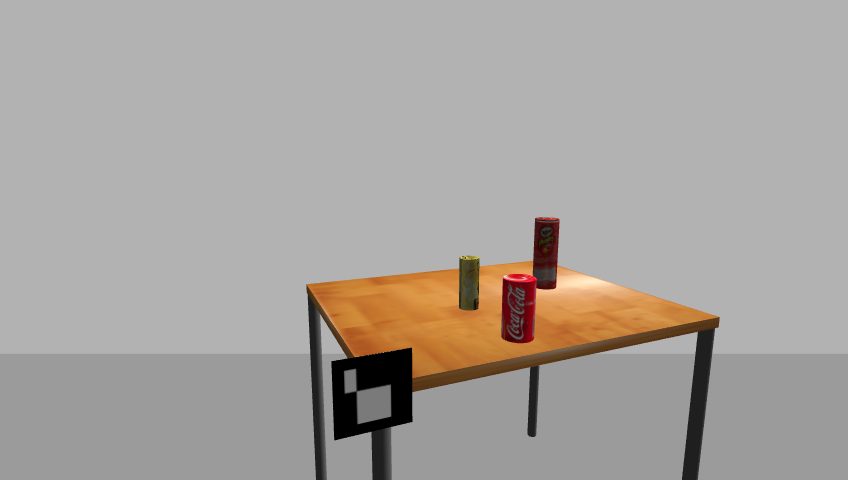aruco marker: (326, 347, 418, 442)
biscuits pack: (457, 256, 481, 312)
coke can: (500, 274, 537, 344)
dinner table: (298, 265, 730, 478)
pringles can: (532, 216, 562, 292)
